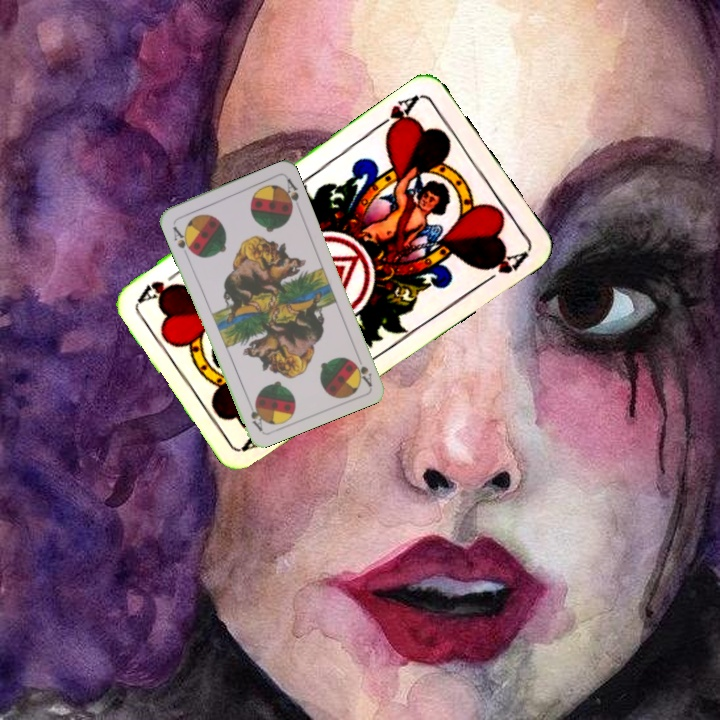HA: (371, 90, 423, 138)
SA: (348, 349, 375, 388), (168, 222, 196, 256)
